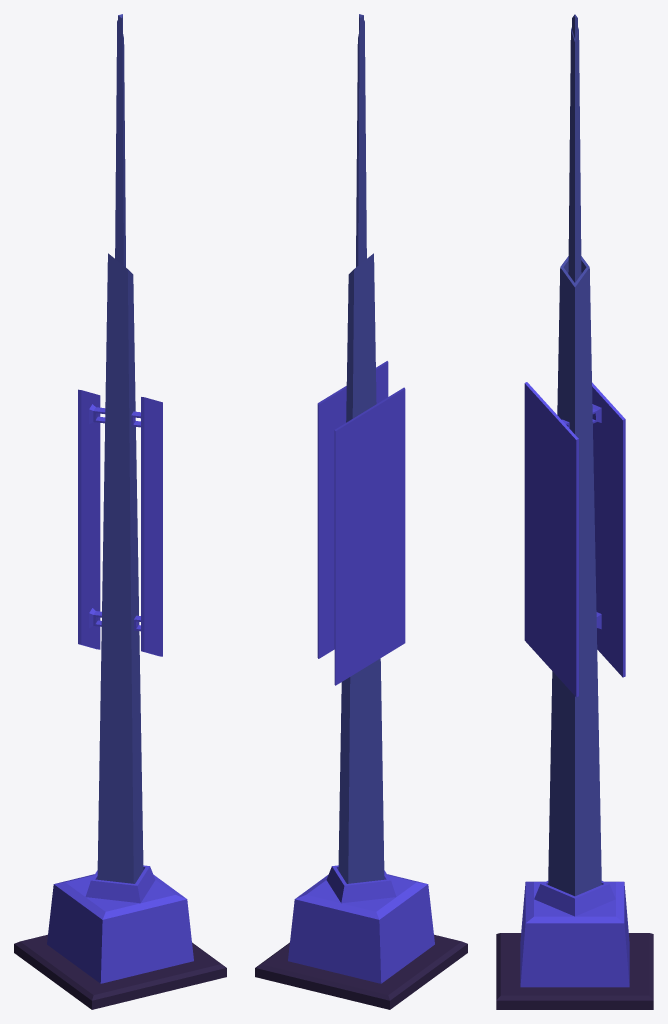
File: tower.fbx
The picture shows the model from 3 angles, left to right: view 1: azimuth 30°, elevation 25°; view 2: azimuth 150°, elevation 25°; view 3: azimuth 270°, elevation 25°; orthographic projection.
Parts seen in each view (by area): view 1: Plane; view 2: Plane; view 3: Plane.
Boxes of the visible parts, bbox=[...] form: Plane: bbox=[14, 14, 226, 1009]; Plane: bbox=[255, 14, 467, 1009]; Plane: bbox=[496, 14, 653, 1009].
Size of the model in its own units: 74.27 by 500 by 74.27.
